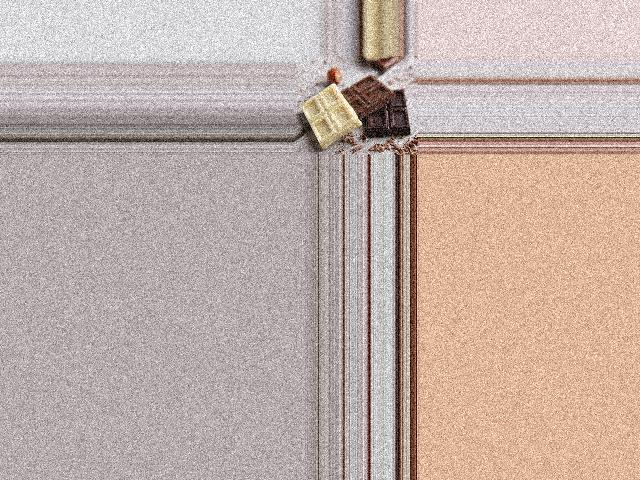chocolate: (301, 74, 415, 142)
